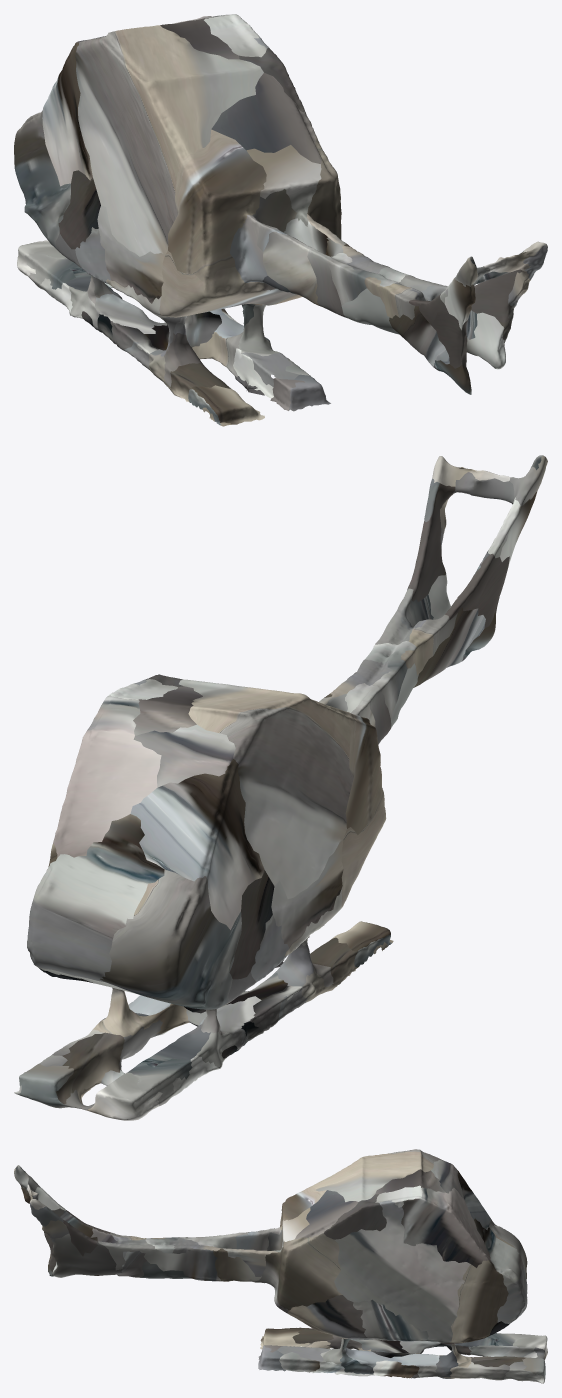
The model's file is helicopter.fbx.
3 views of the same model, one above another, from view 1: azimuth 30°, elevation 25°; view 2: azimuth 150°, elevation 25°; view 3: azimuth 270°, elevation 25° (orthographic). The views are drawn at different scales.
Parts seen in each view (by area): view 1: meshes[0]; view 2: meshes[0]; view 3: meshes[0].
Boxes of the visible parts, bbox=[...] form: meshes[0]: bbox=[14, 14, 547, 426]; meshes[0]: bbox=[14, 455, 547, 1120]; meshes[0]: bbox=[14, 1149, 547, 1383].
Bounding box in the file's own units: 0.5181 × 1.03 × 2.47.
